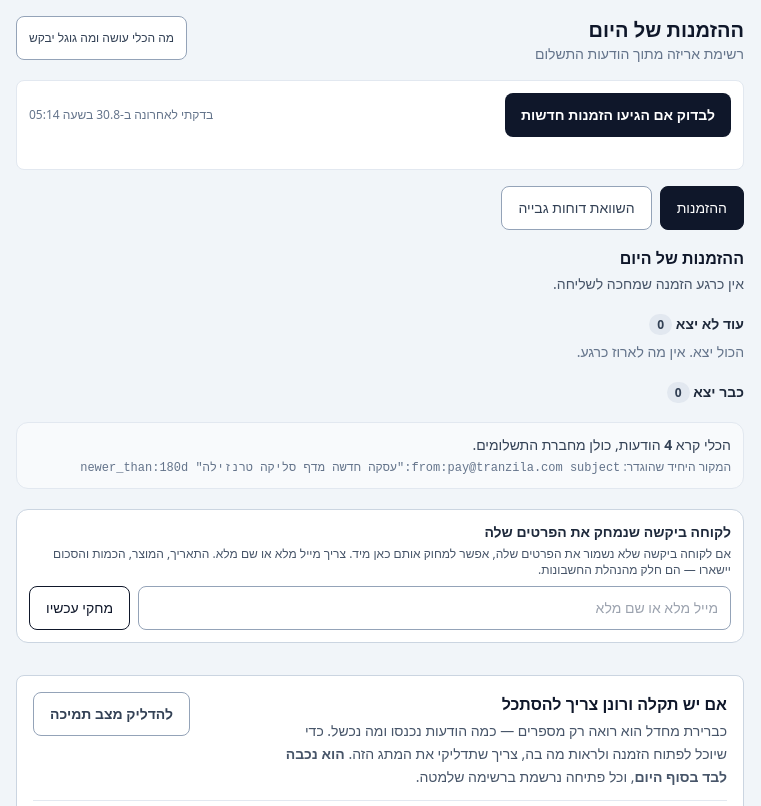
Test: מה כתוב על המסך אחרי הבדיקה › כישלון נאמר בעברית, בלי קוד שגיאה ובלי מונח פנימי
What coordinates should you click on to do the following:
click the button "לבדוק אם הגיעו הזמנות חדשות"
I would click on:
 (618, 115)
Its box is [505,93,731,137].
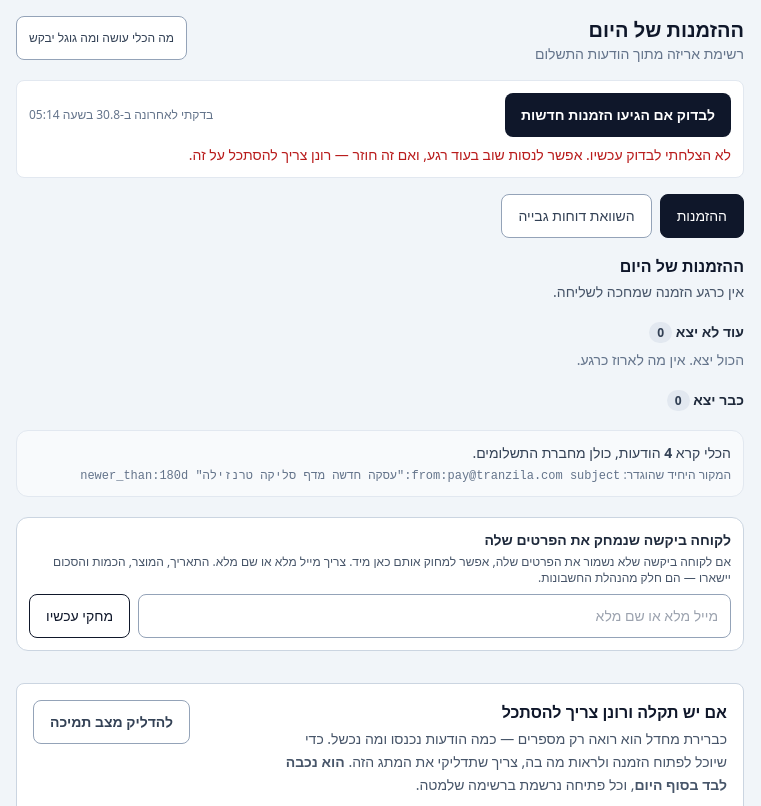
Expected: the text "לא הצלחתי לבדוק עכשיו" is shown, [189,145,731,164]
